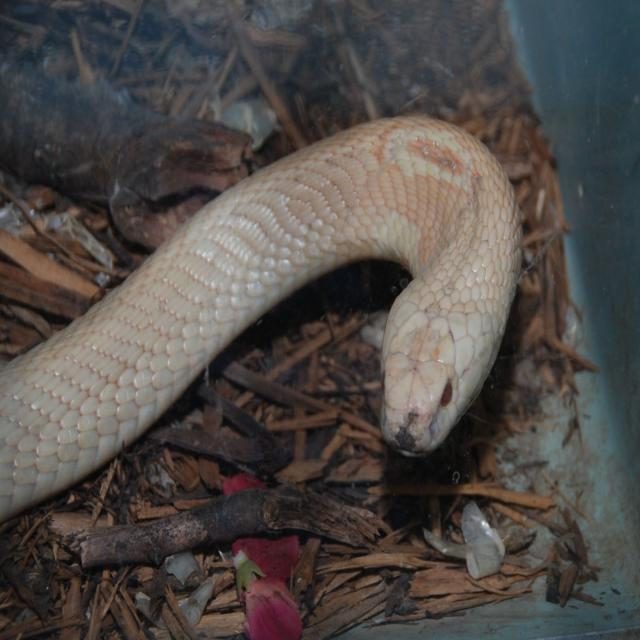Snake: (0, 111, 524, 524)
